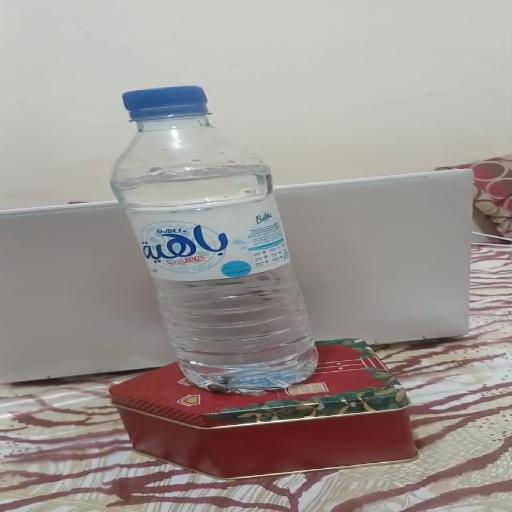bouteille conformite: (105, 68, 384, 384)
